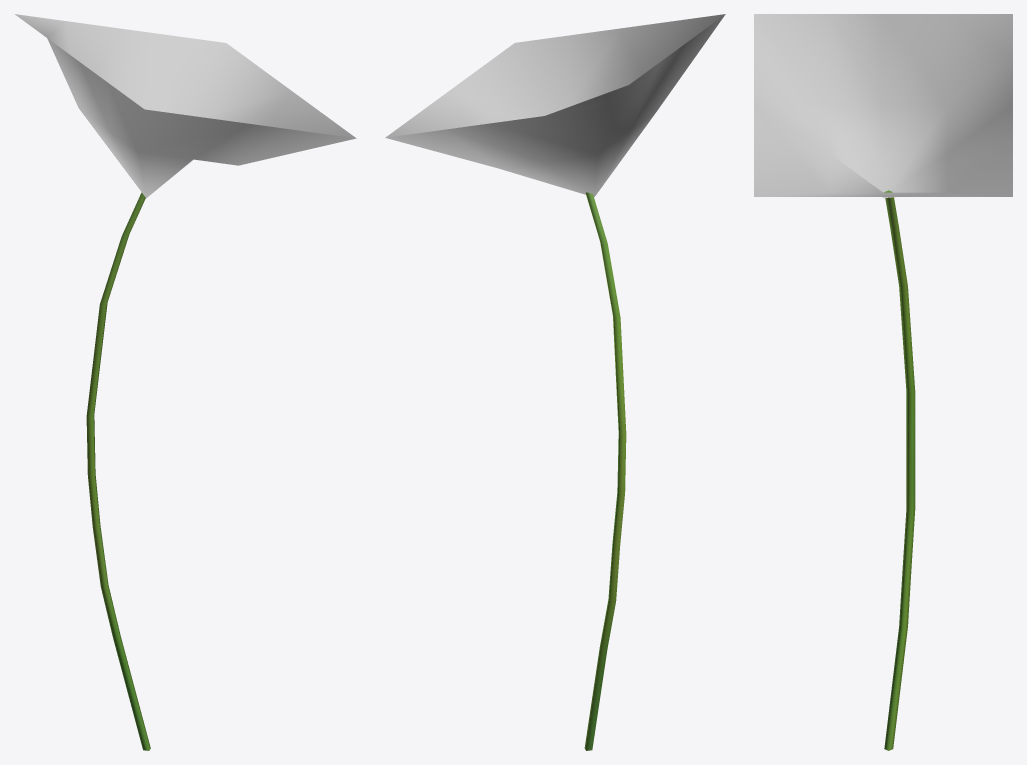
File: SM_flower_11.fbx
3 renders of one model, left to right at view 1: azimuth 30°, elevation 25°; view 2: azimuth 150°, elevation 25°; view 3: azimuth 270°, elevation 25°, orthographic.
Parts seen in each view (by area): view 1: SM_flower_11; view 2: SM_flower_11; view 3: SM_flower_11.
Part boxes in pixels (x1,y1,x2,y2): SM_flower_11: (14,14,356,750); SM_flower_11: (385,14,725,750); SM_flower_11: (754,14,1012,750).
Size of the model in its own units: 21.27 by 67.68 by 22.63.
